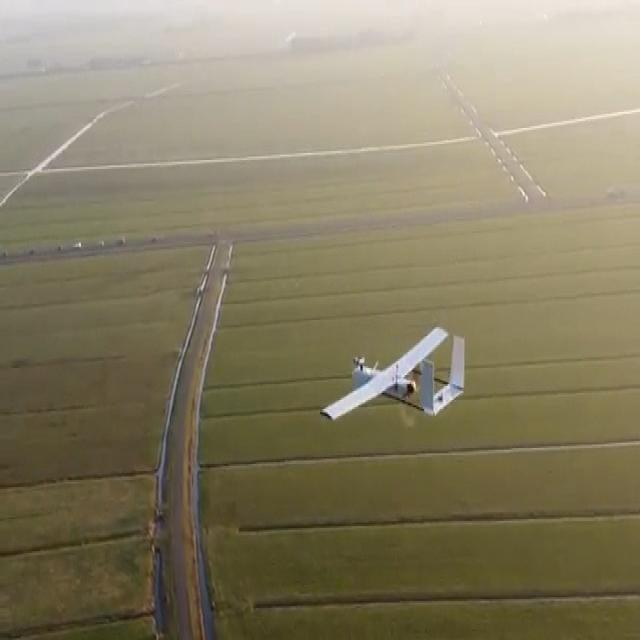drones: (320, 320, 474, 447)
